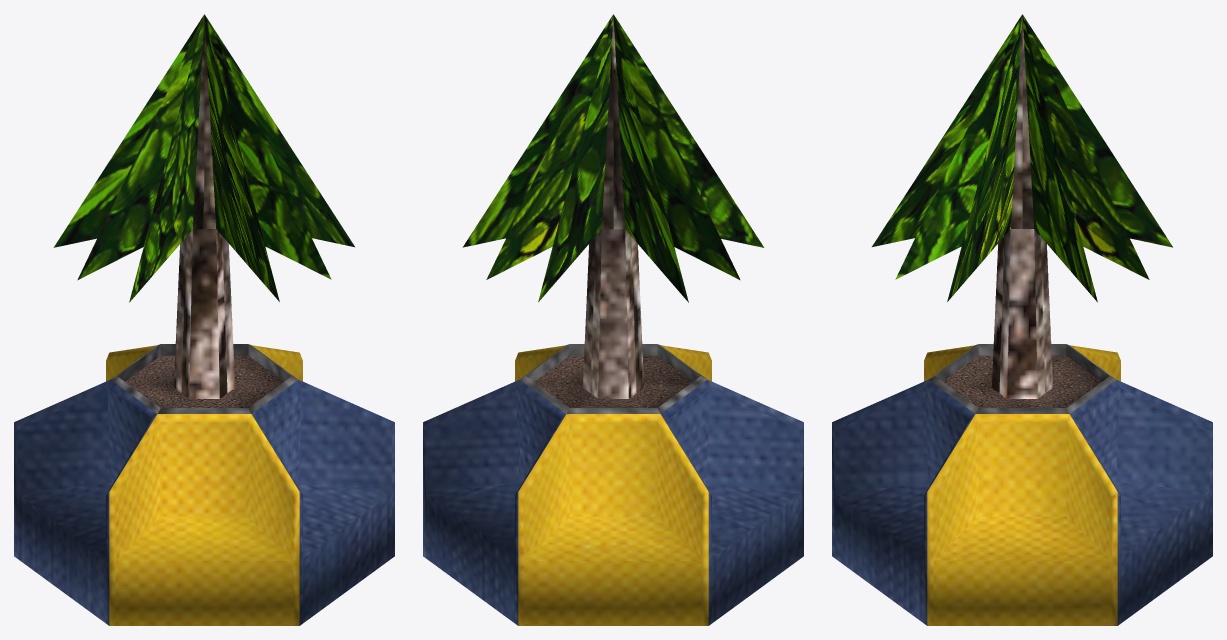
File: banc_arbre.fbx
The picture shows the model from 3 angles, left to right: view 1: azimuth 30°, elevation 25°; view 2: azimuth 150°, elevation 25°; view 3: azimuth 270°, elevation 25°; orthographic projection.
Parts seen in each view (by area): view 1: banc_arbre; view 2: banc_arbre; view 3: banc_arbre.
Part boxes in pixels (left/top/right/bottom): banc_arbre: left=14, top=14, right=394, bottom=625; banc_arbre: left=423, top=14, right=803, bottom=625; banc_arbre: left=832, top=14, right=1212, bottom=625.
Size of the model in its own units: 198 by 359 by 229.
